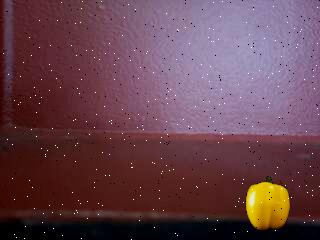Capsicum: (247, 176, 290, 232)
